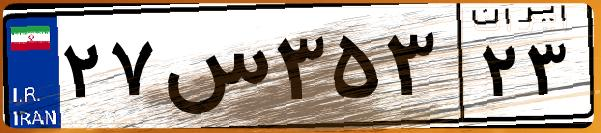2: (57, 26, 110, 100), (475, 38, 525, 113)
3: (270, 28, 330, 110), (385, 28, 445, 110), (525, 38, 570, 115)
5: (330, 28, 385, 110)
7: (110, 28, 158, 98)
س: (158, 20, 270, 120)
